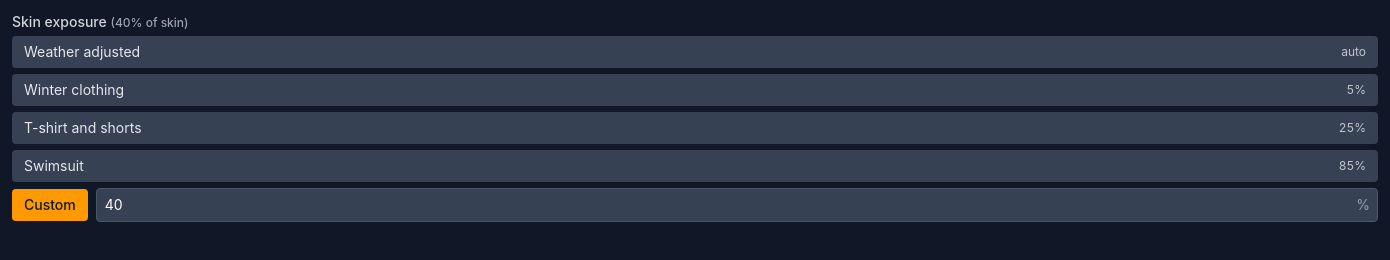
Scenario: ExposureSelector › explains an out-of-range value instead of silently ignoring it
Replace the text in the number field named "Custom skin exposure" with "150". click: (737, 205)
box: [96,188,1378,222]
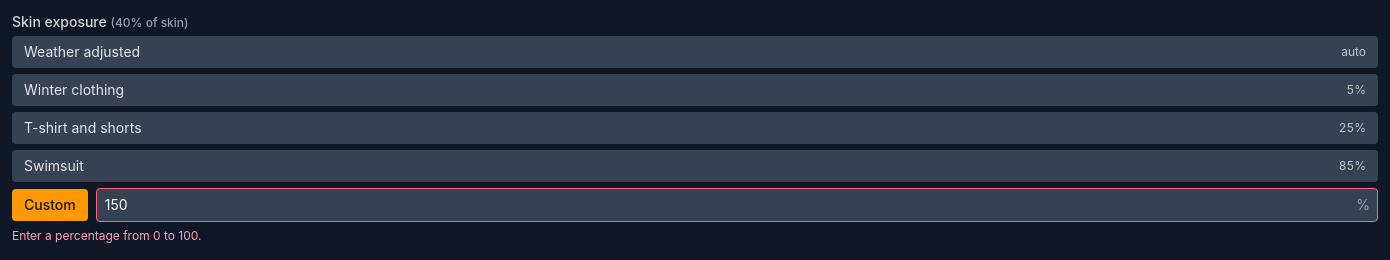
Expected: the message reads "Enter a percentage from 0 to 100.", [12,228,202,243]
